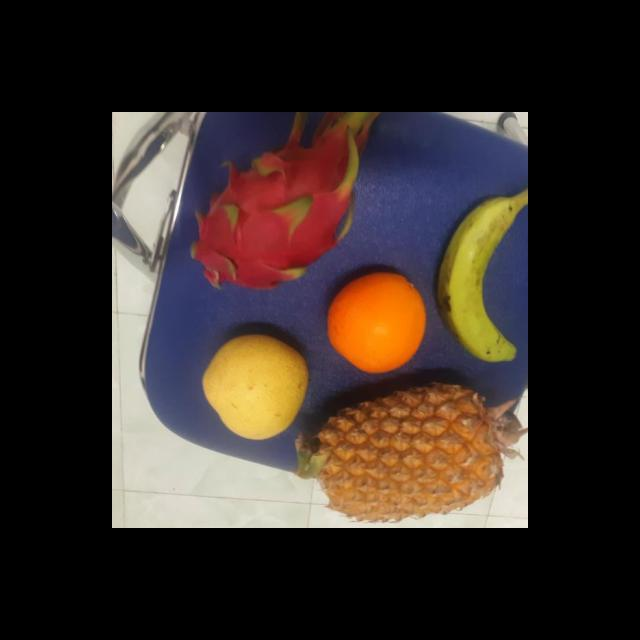banana: (432, 189, 528, 361)
guava: (198, 334, 308, 436), (322, 273, 430, 372)
pineapple: (304, 380, 506, 522)
pitaya: (186, 150, 358, 288)
